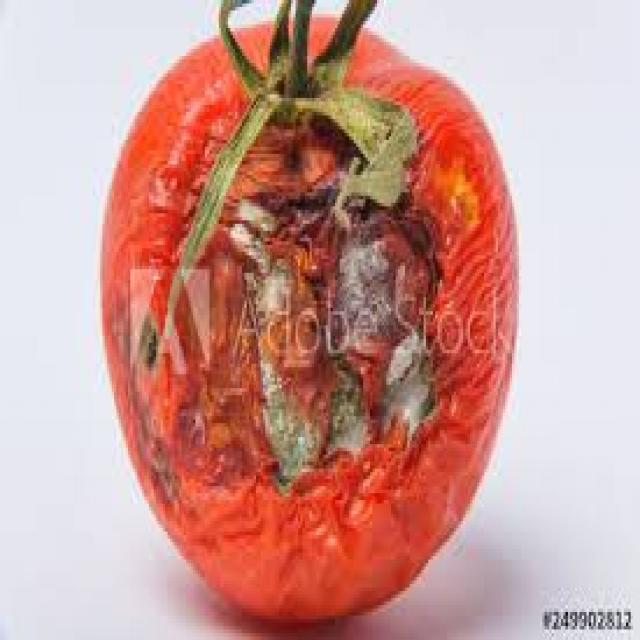organic waste: (98, 0, 516, 619)
